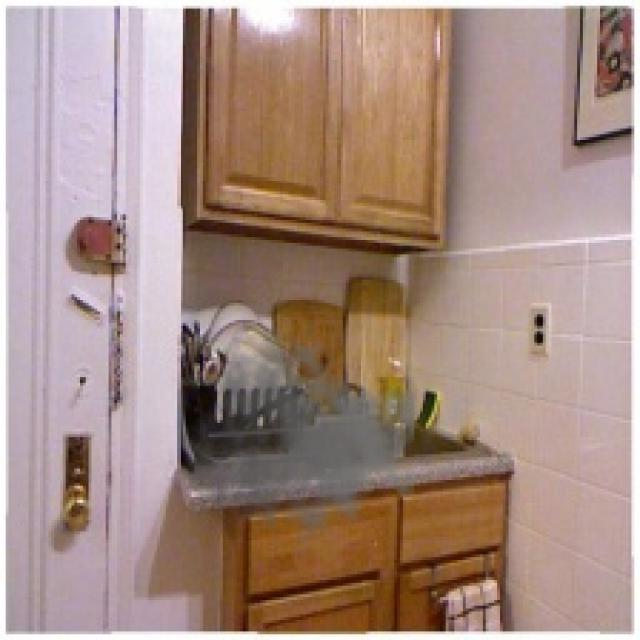smoke: (183, 331, 414, 560)
